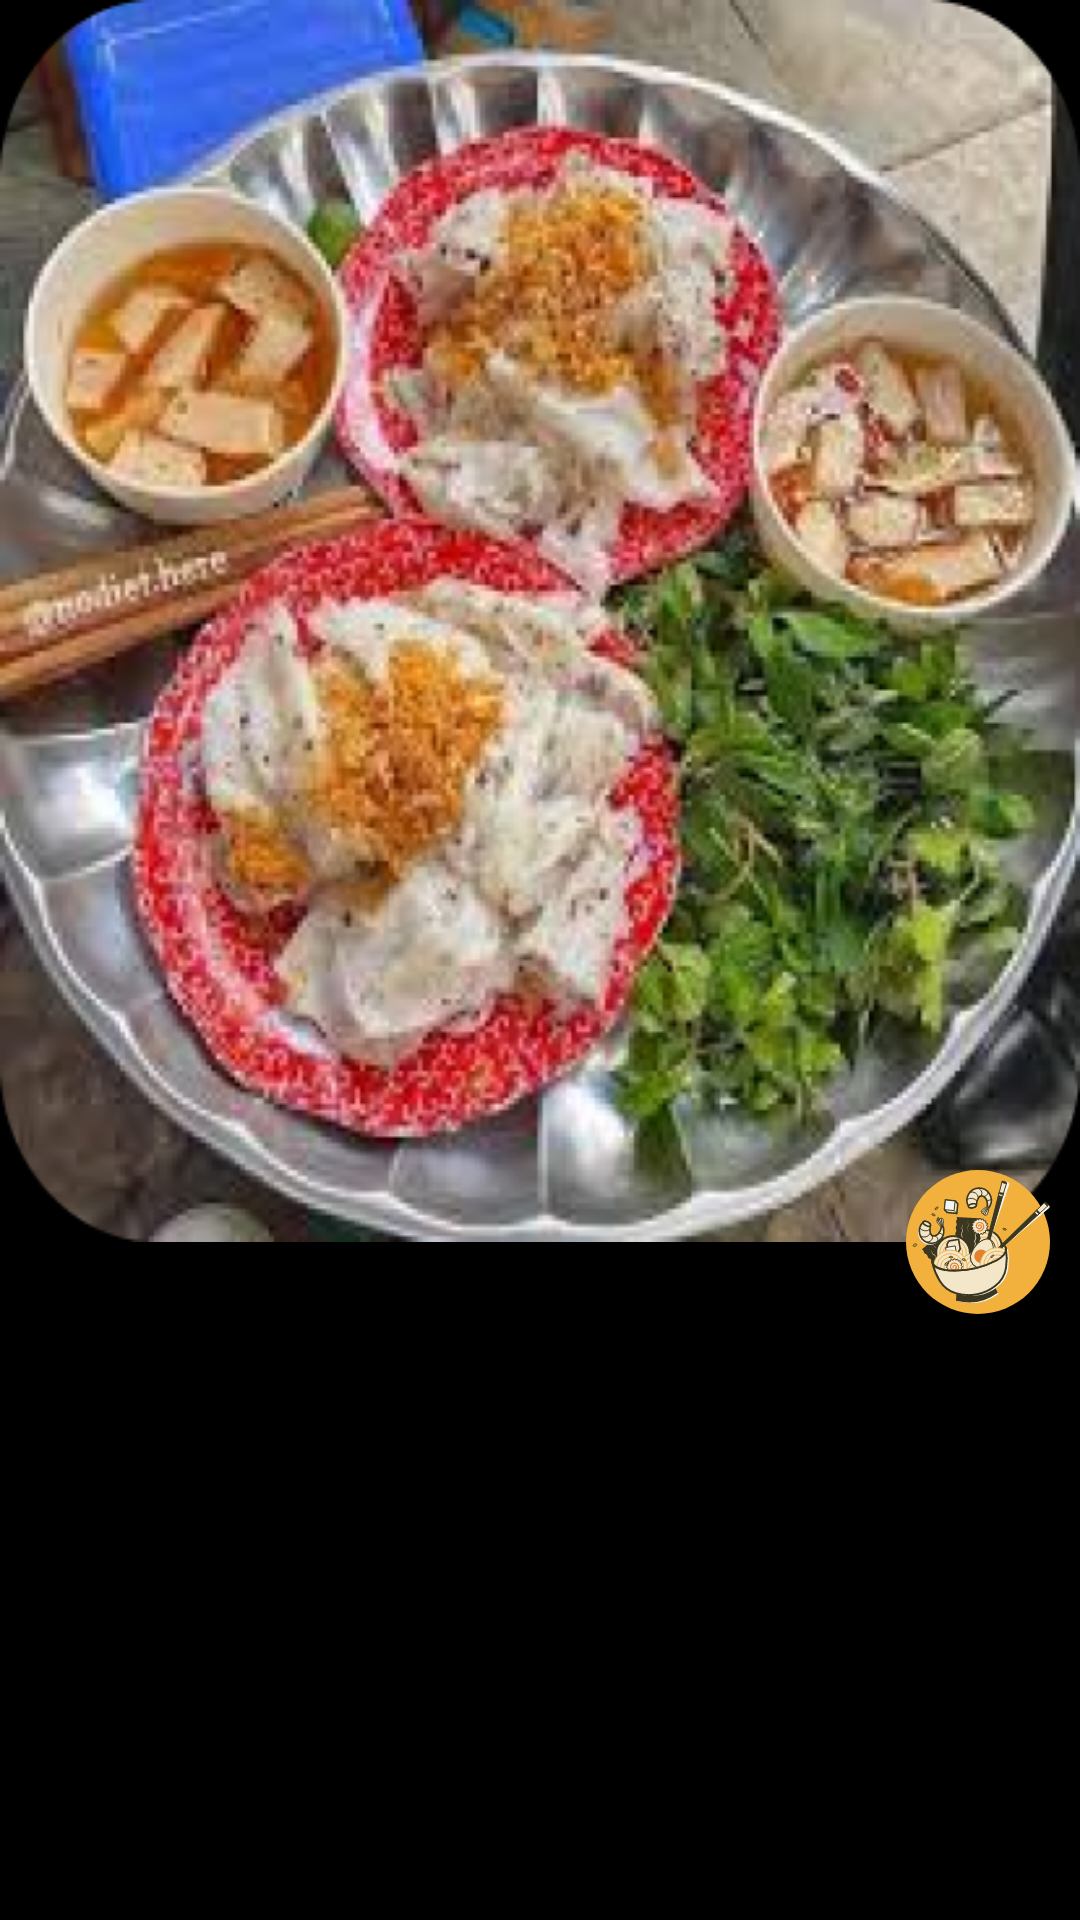

Locate icon controls on the screen. Image size 1080 x 1920, boxes as (x1, y1, x2, y2).
food icon: (906, 1170, 1050, 1314)
